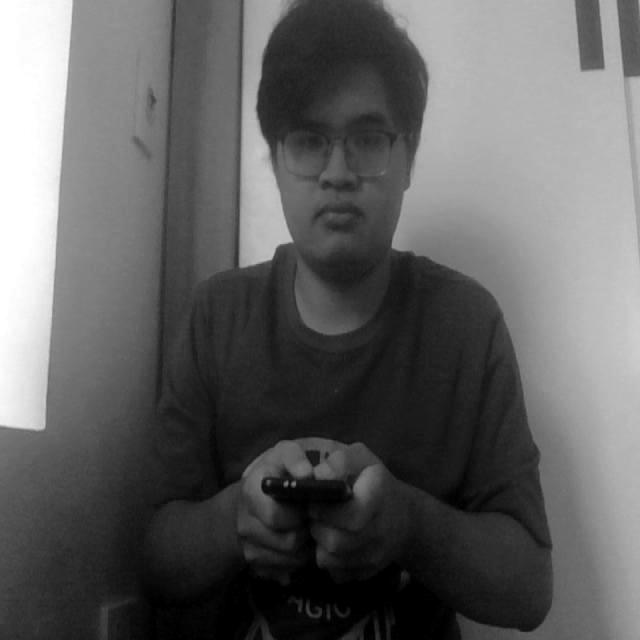phone: (247, 440, 382, 538)
